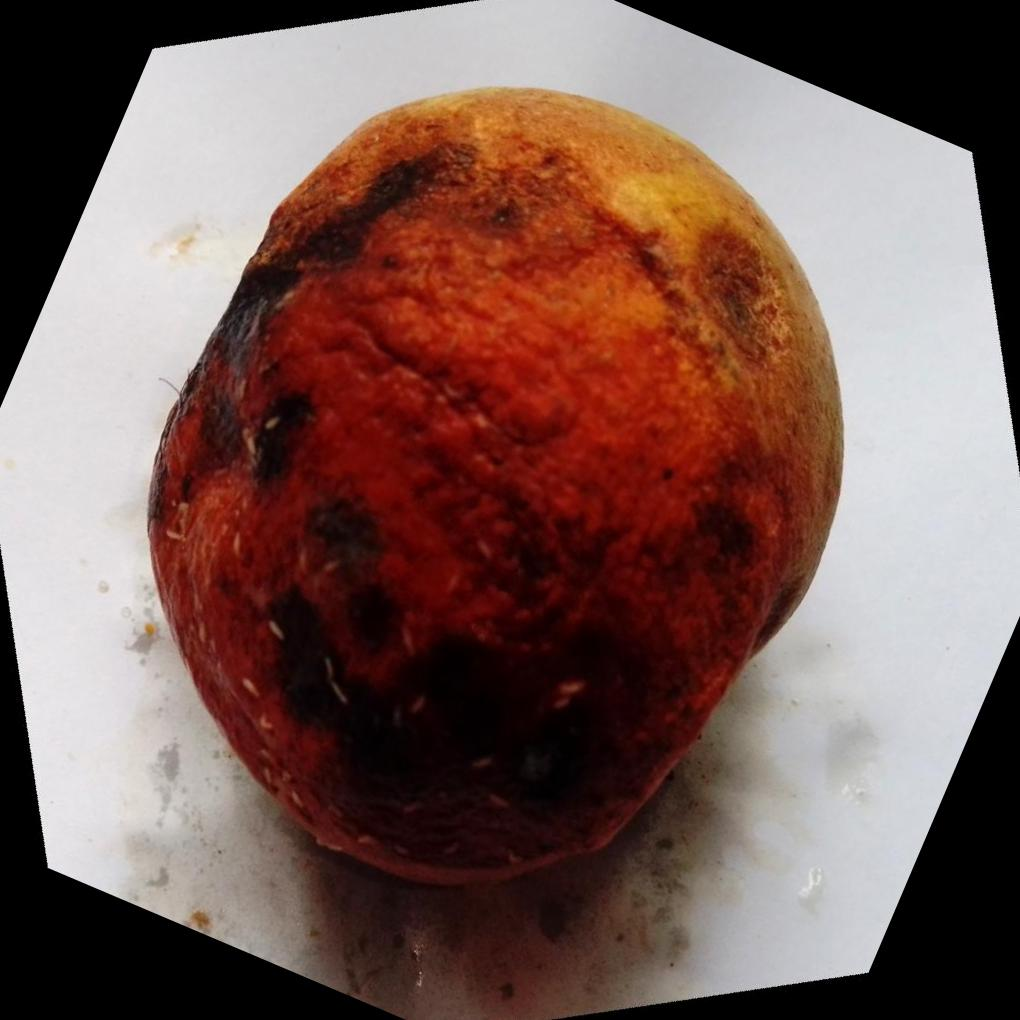FreshOrange: (143, 86, 844, 893)
